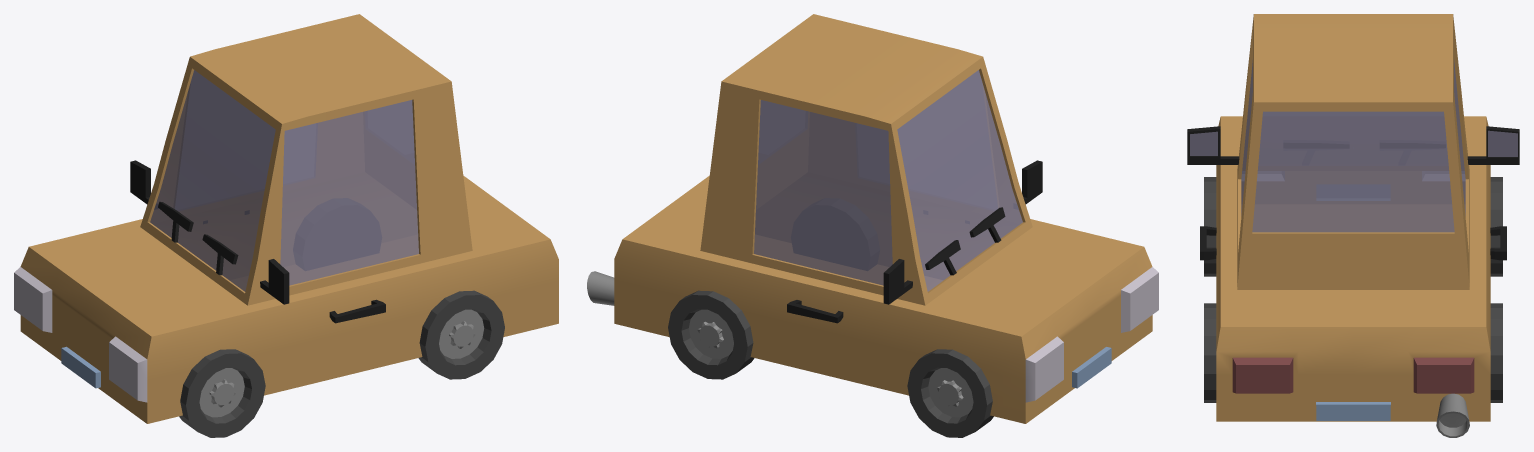
File: Car.fbx
3 renders of one model, left to right at view 1: azimuth 30°, elevation 25°; view 2: azimuth 150°, elevation 25°; view 3: azimuth 270°, elevation 25°, orthographic. The views are drawn at different scales.
Parts seen in each view (by area): view 1: Auto, Llanta1, Llanta2, Llanta3; view 2: Auto, Llanta4, Llanta3, Llanta2; view 3: Auto, Llanta2, Llanta3, Llanta1, Llanta4.
Part boxes in pixels (x1,y1,x2,y2): Auto: [14, 14, 558, 423]; Llanta1: [179, 349, 265, 437]; Llanta2: [418, 290, 504, 379]; Llanta3: [293, 198, 381, 270]; Auto: [587, 14, 1158, 423]; Llanta4: [907, 349, 993, 437]; Llanta3: [668, 290, 754, 379]; Llanta2: [791, 198, 879, 270]; Auto: [1187, 14, 1519, 437]; Llanta2: [1204, 303, 1216, 402]; Llanta3: [1490, 303, 1502, 402]; Llanta1: [1204, 177, 1216, 276]; Llanta4: [1490, 177, 1502, 276].
Size of the model in its own units: 172 by 99.27 by 99.27.
